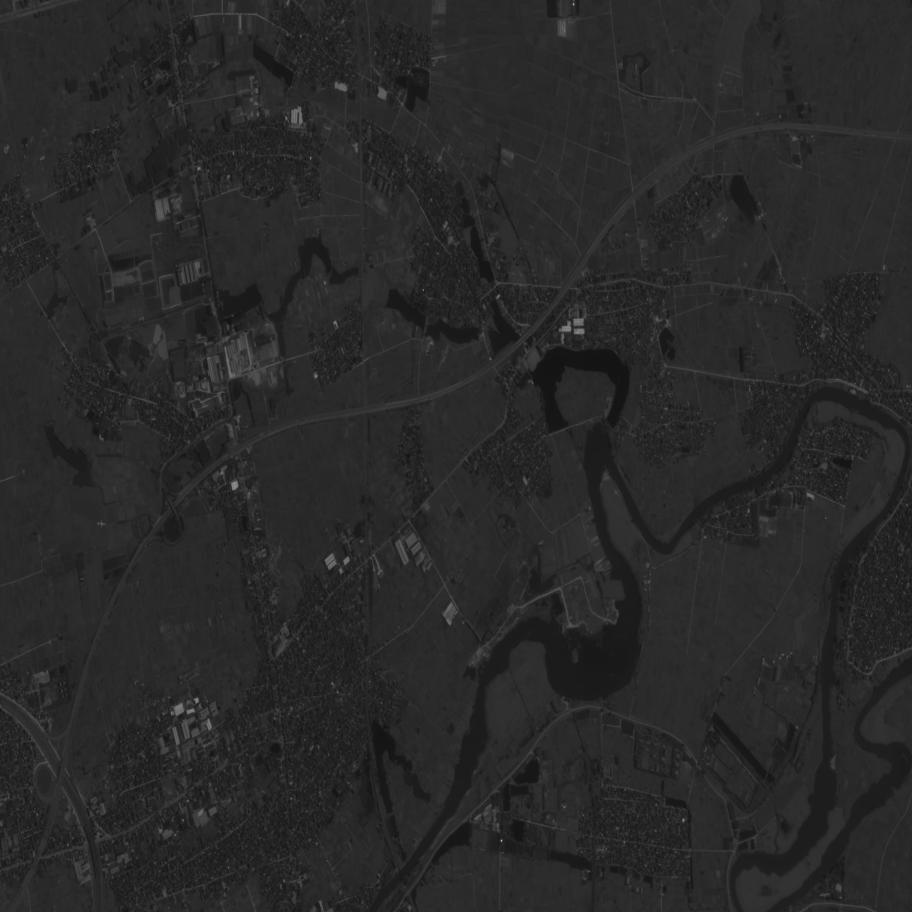plane: (97, 519, 107, 529)
storage-tank: (61, 694, 65, 699), (65, 694, 68, 698), (59, 682, 62, 686), (64, 689, 67, 692), (61, 690, 64, 693), (64, 681, 66, 685)
